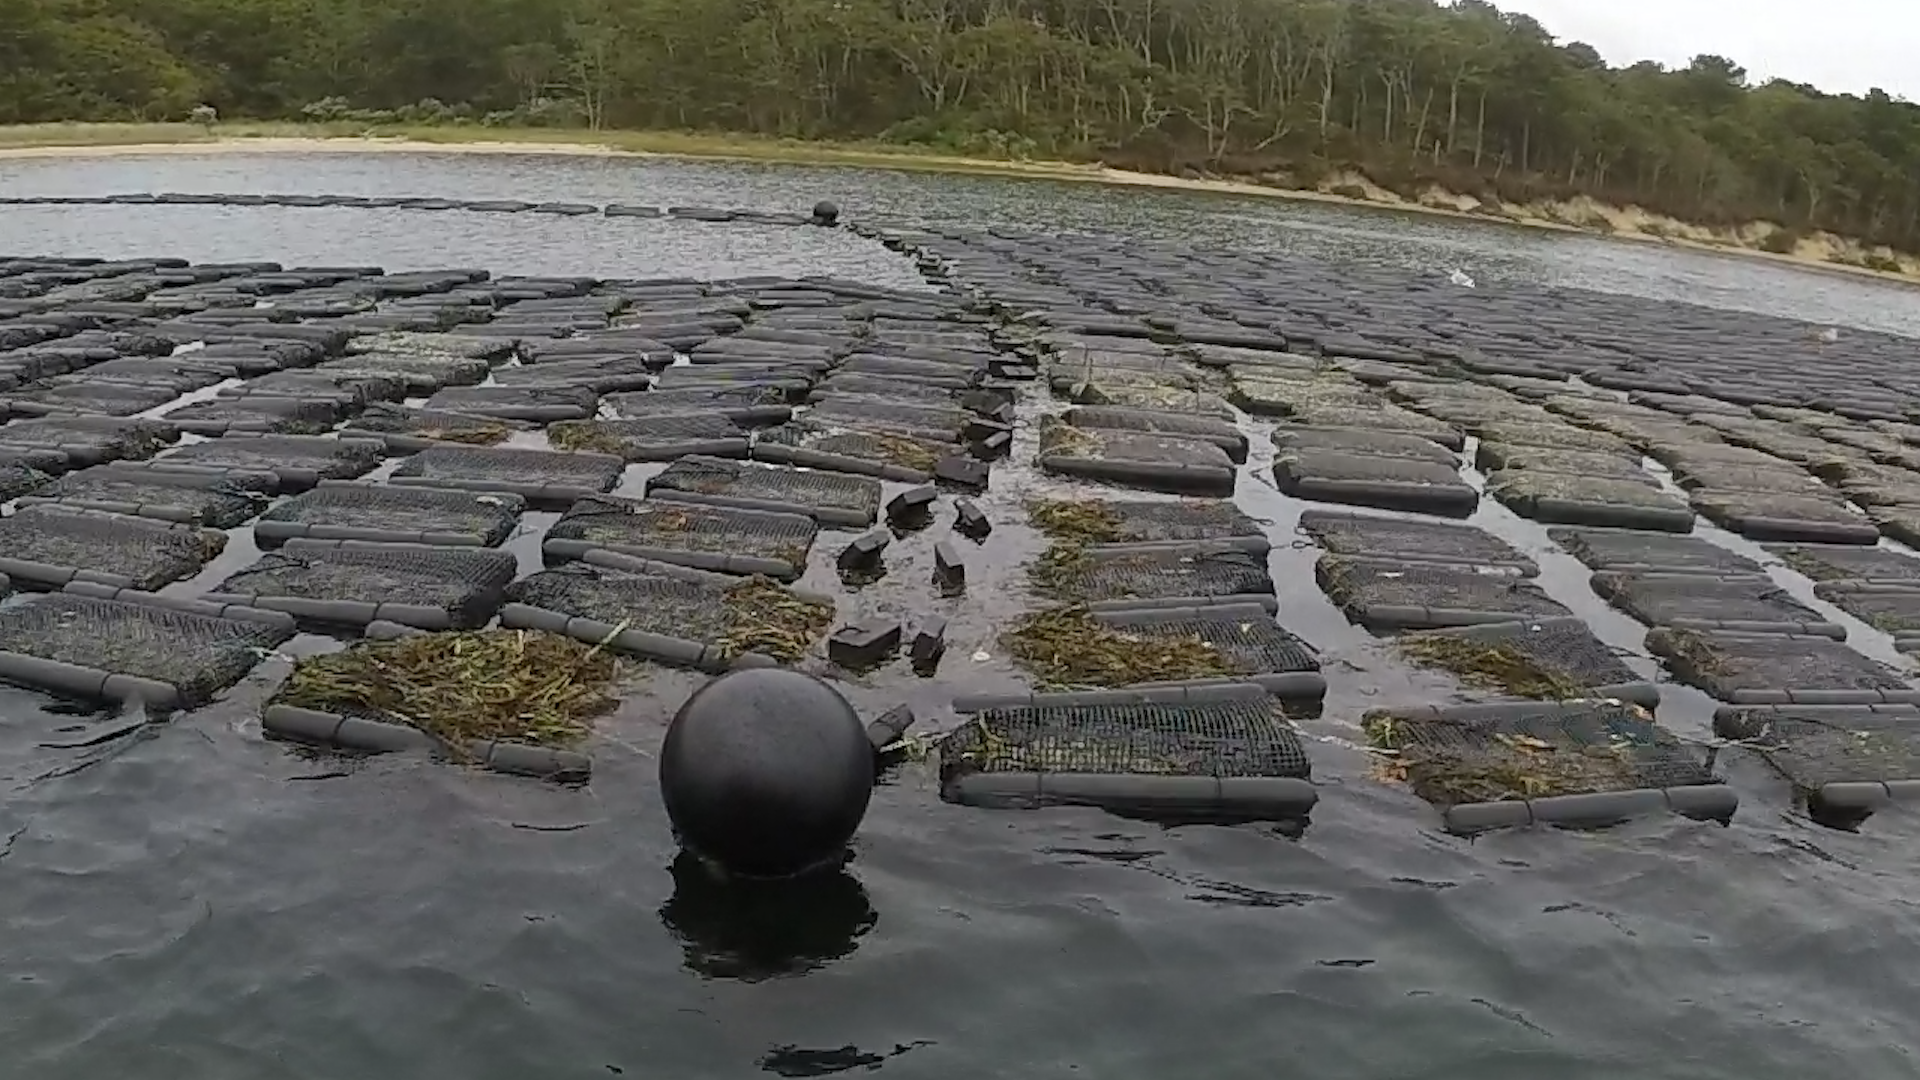bag: (249, 620, 629, 786), (942, 682, 1320, 828), (1356, 704, 1737, 831), (997, 604, 1307, 702)
